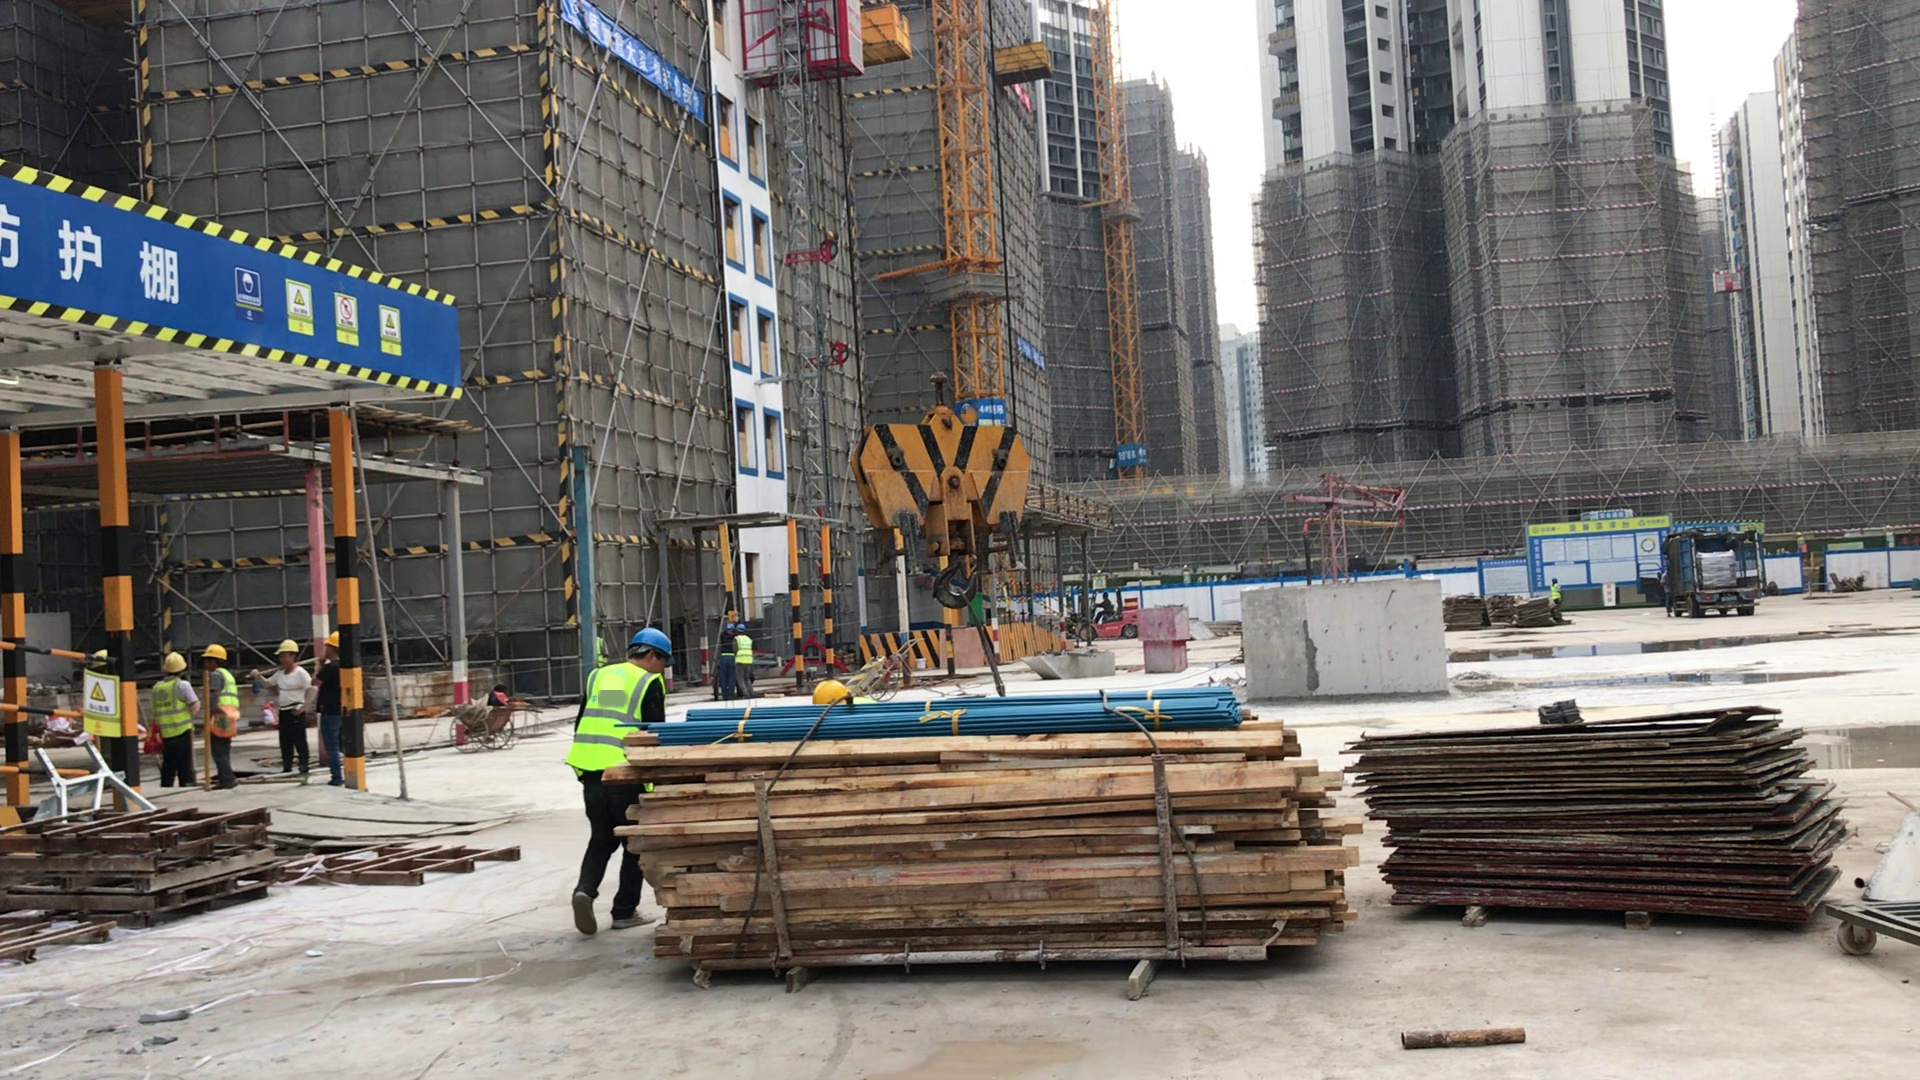board: (1348, 711, 1841, 927)
handcart: (439, 699, 552, 755)
helmet: (804, 674, 854, 708), (623, 628, 675, 658), (161, 650, 191, 674), (270, 639, 301, 656), (205, 646, 230, 662), (323, 633, 343, 647)
hook: (849, 359, 1042, 604)
hopper: (1023, 644, 1124, 683)
person: (562, 629, 699, 935), (252, 634, 319, 780), (197, 639, 245, 791), (148, 649, 201, 789), (314, 629, 352, 789), (714, 623, 739, 701), (735, 623, 759, 698), (1547, 576, 1567, 625)
slogan: (1, 160, 456, 400), (556, 1, 716, 123)
vest: (573, 665, 658, 781), (152, 683, 193, 733), (212, 670, 239, 720), (735, 636, 754, 663)
wood: (633, 734, 1355, 970)
